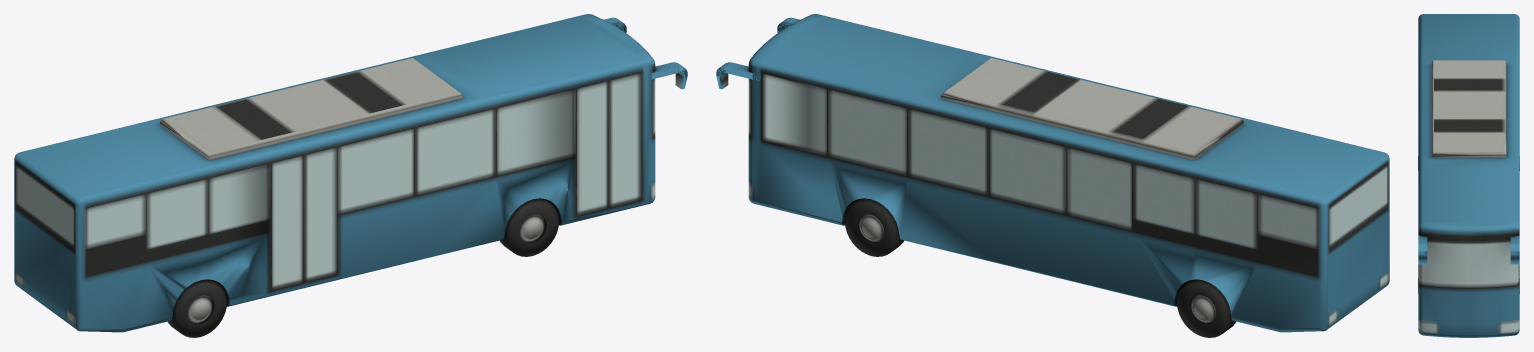
Rendered from bus.obj.
3 renders of one model, left to right at view 1: azimuth 30°, elevation 25°; view 2: azimuth 150°, elevation 25°; view 3: azimuth 270°, elevation 25°, orthographic. The views are drawn at different scales.
Parts seen in each view (by area): view 1: Material__148; view 2: Material__148; view 3: Material__148.
Boxes of the visible parts, box(x1,y1,x2,y2) form: Material__148: box(14, 14, 687, 337); Material__148: box(716, 14, 1389, 337); Material__148: box(1418, 14, 1519, 337).
Size of the model in its own units: 11.59 by 3.15 by 2.21.
